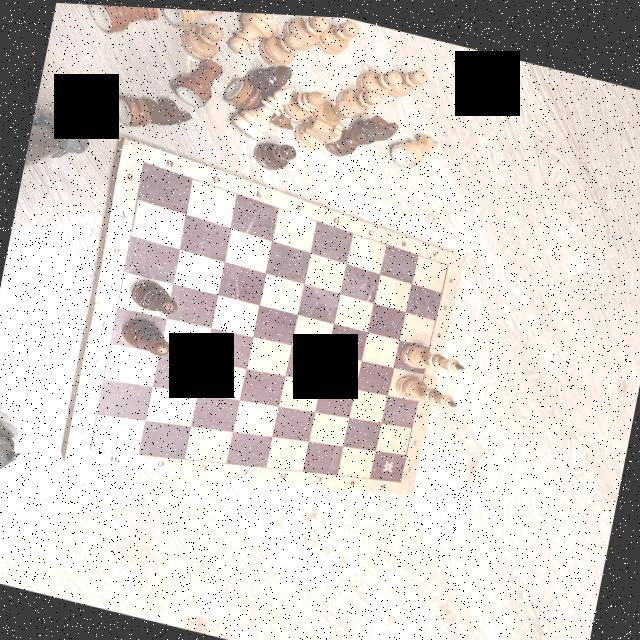chess-table-corners: (134, 150, 154, 170), (83, 440, 96, 455), (394, 472, 408, 482), (442, 256, 454, 264)
